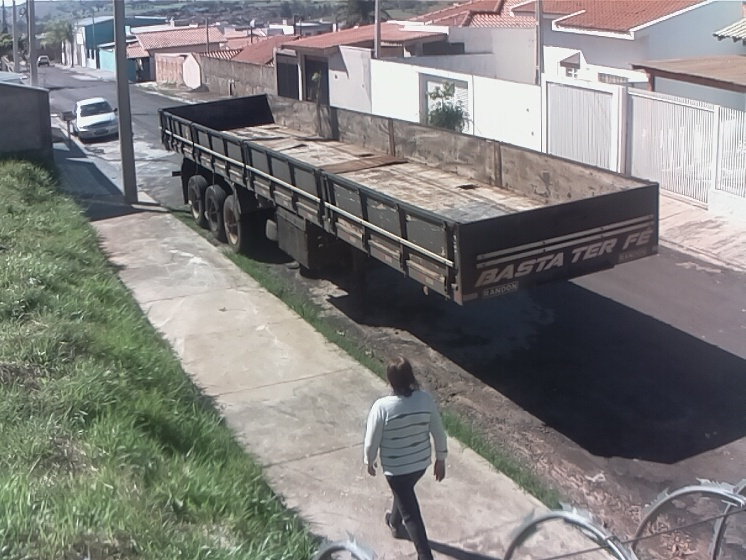person: (362, 356, 450, 560)
